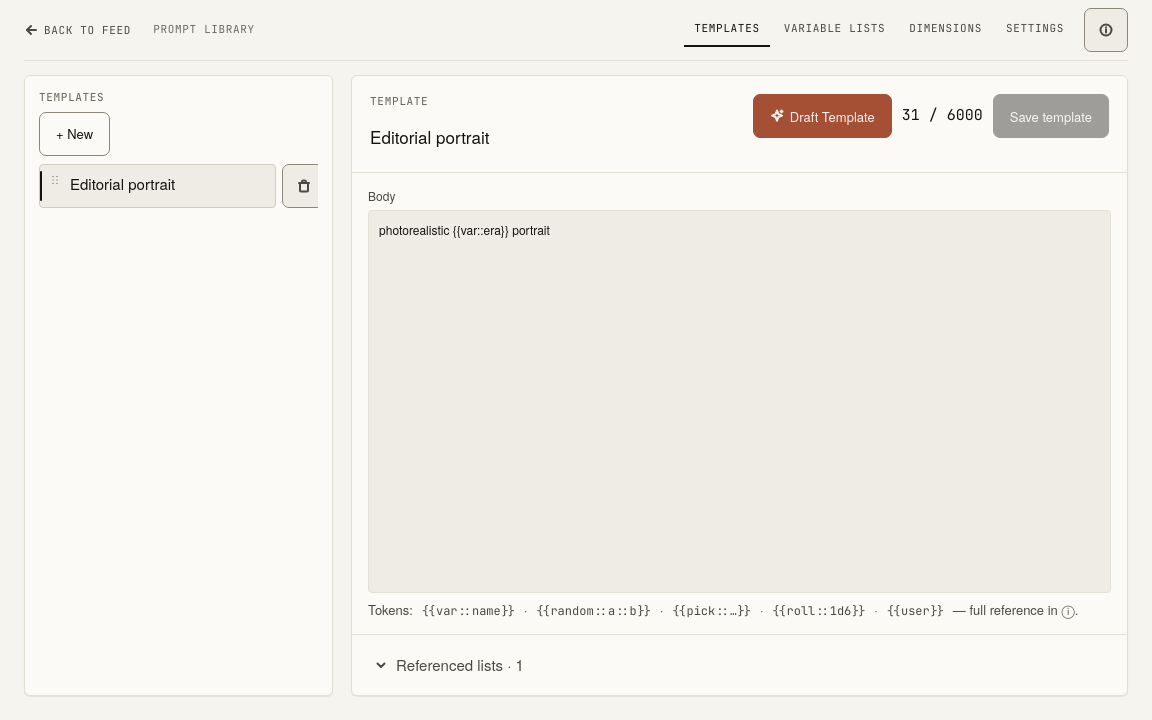
PromptManager › a new template with a cleared name resumes its unsaved body
Click the button "+ New".
click(75, 134)  # box [39,112,110,156]
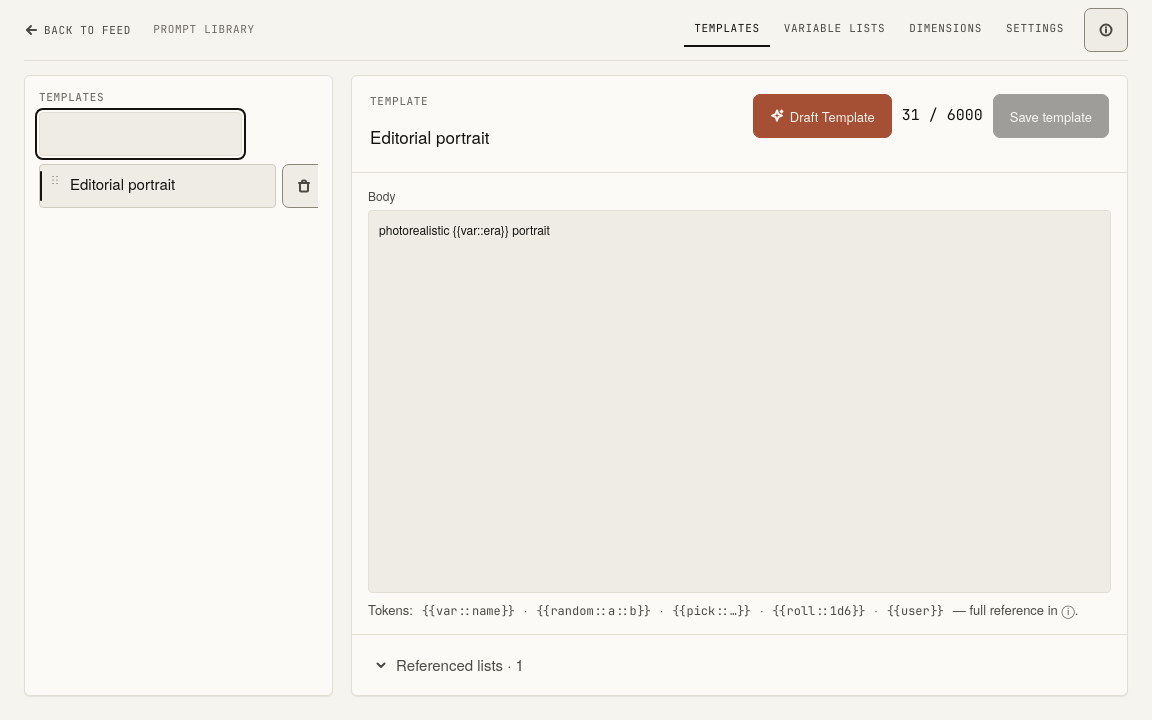
Type "First name" into the 1st field named "Template name".
click(140, 134); type("First name")  # box [39,112,242,156]
Press Enter in the 1st field named "Template name", box [39,112,242,156]
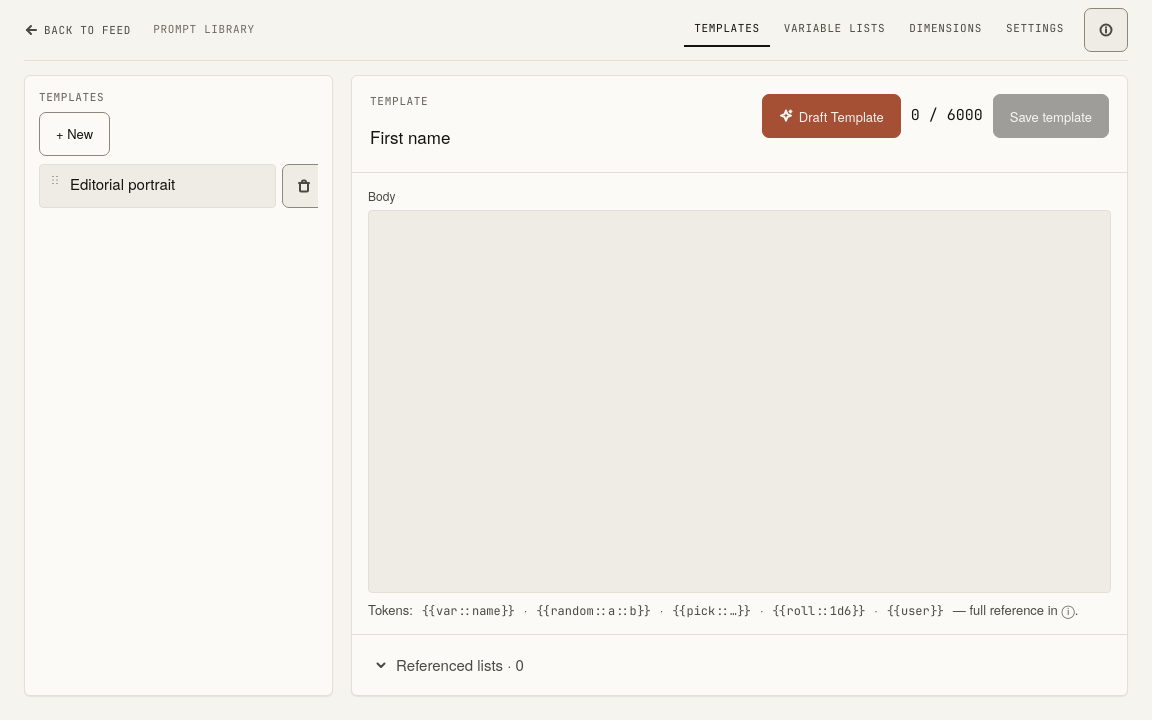
Type "Keep this body" into the text box labelled "Body".
click(740, 401); type("Keep this body")  # box [368,210,1111,593]
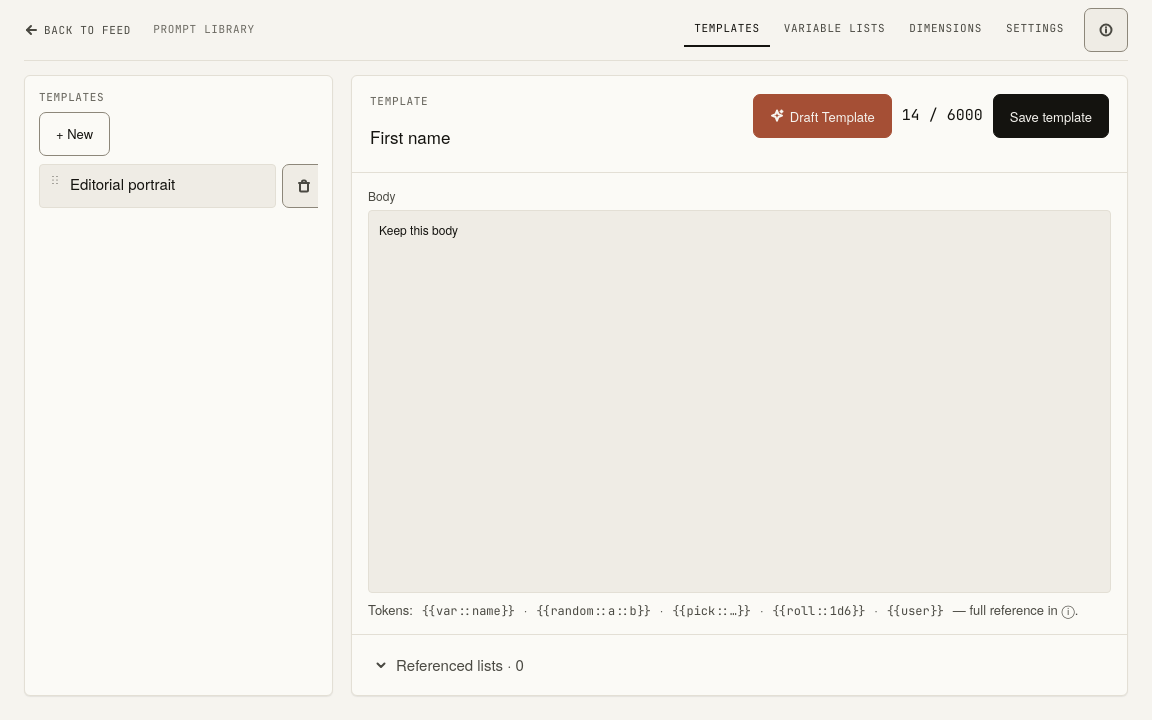
Clear the field named "Template name" at (484, 137), box [370,120,597,154]
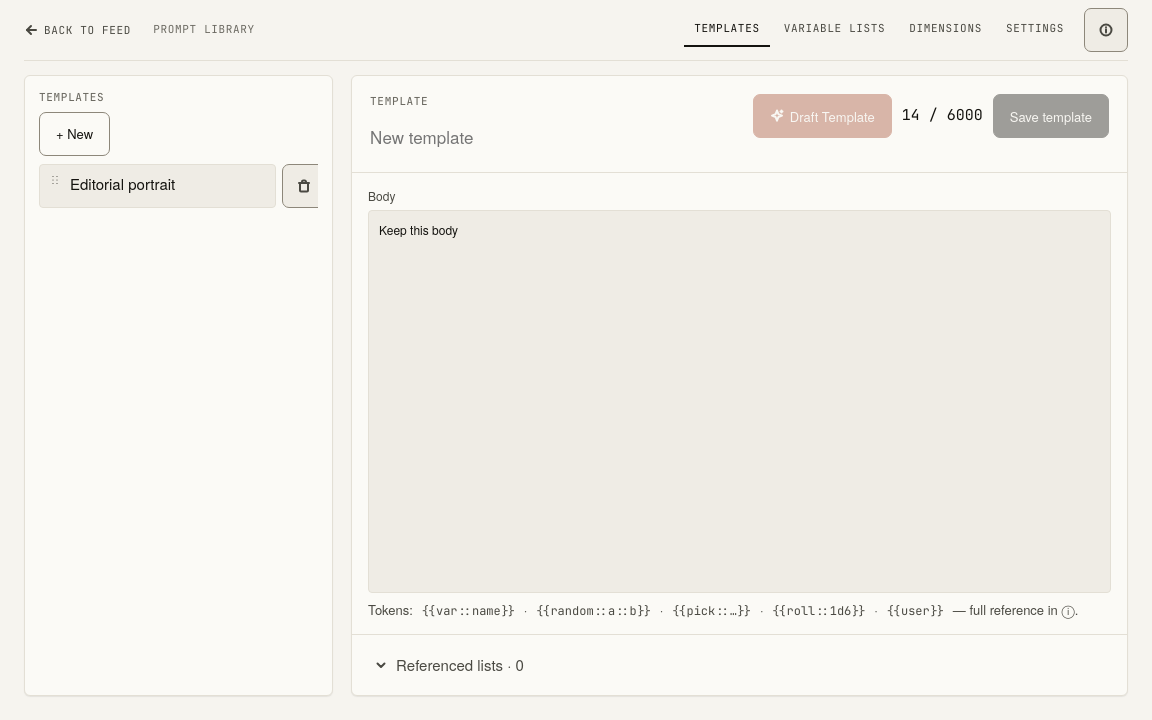
Click the button "Editorial portrait".
click(158, 186)  # box [39,164,276,208]
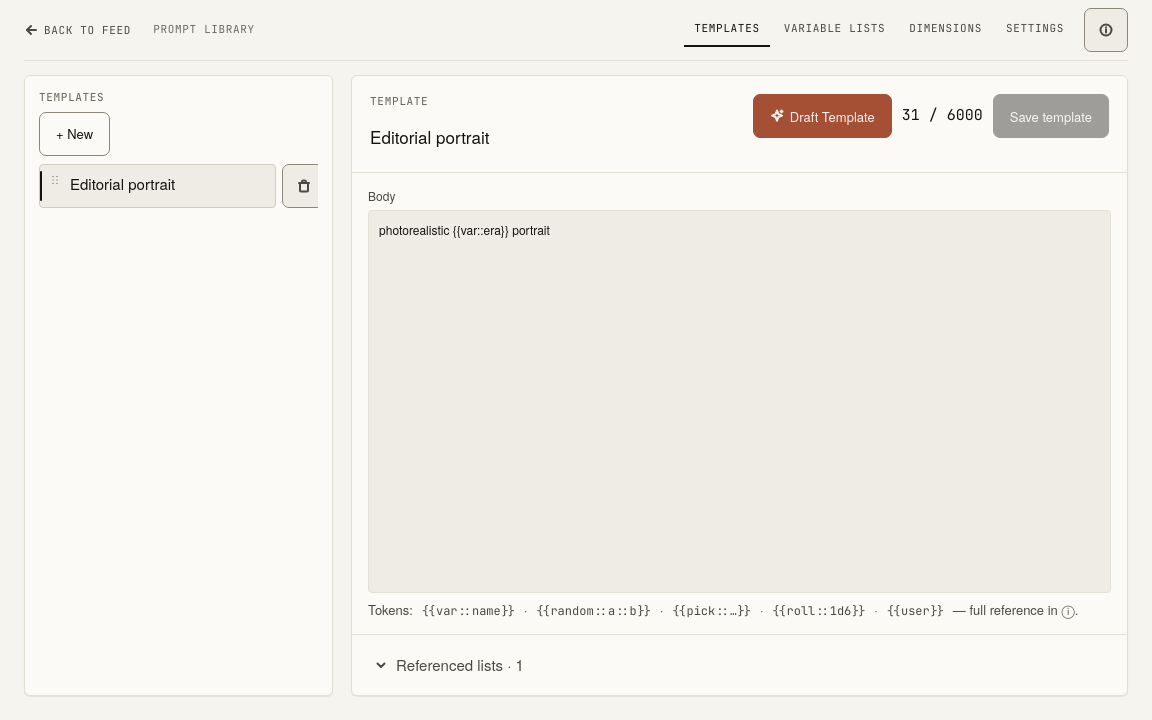
Click the button "+ New".
click(75, 134)  # box [39,112,110,156]
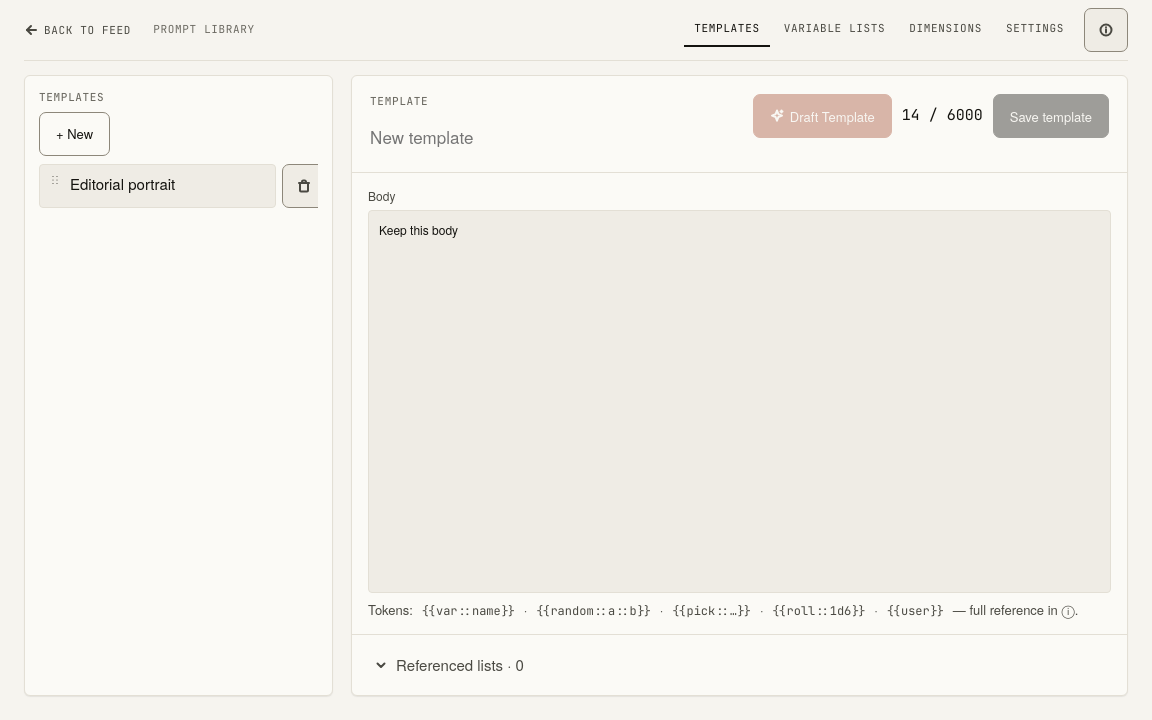
Expected: the form named "Create template" is shown, [351,75,1128,696]
Expected: the field named "Template name" is empty, [370,120,597,154]
Expected: the text box labelled "Body" holds "Keep this body", [368,210,1111,593]
